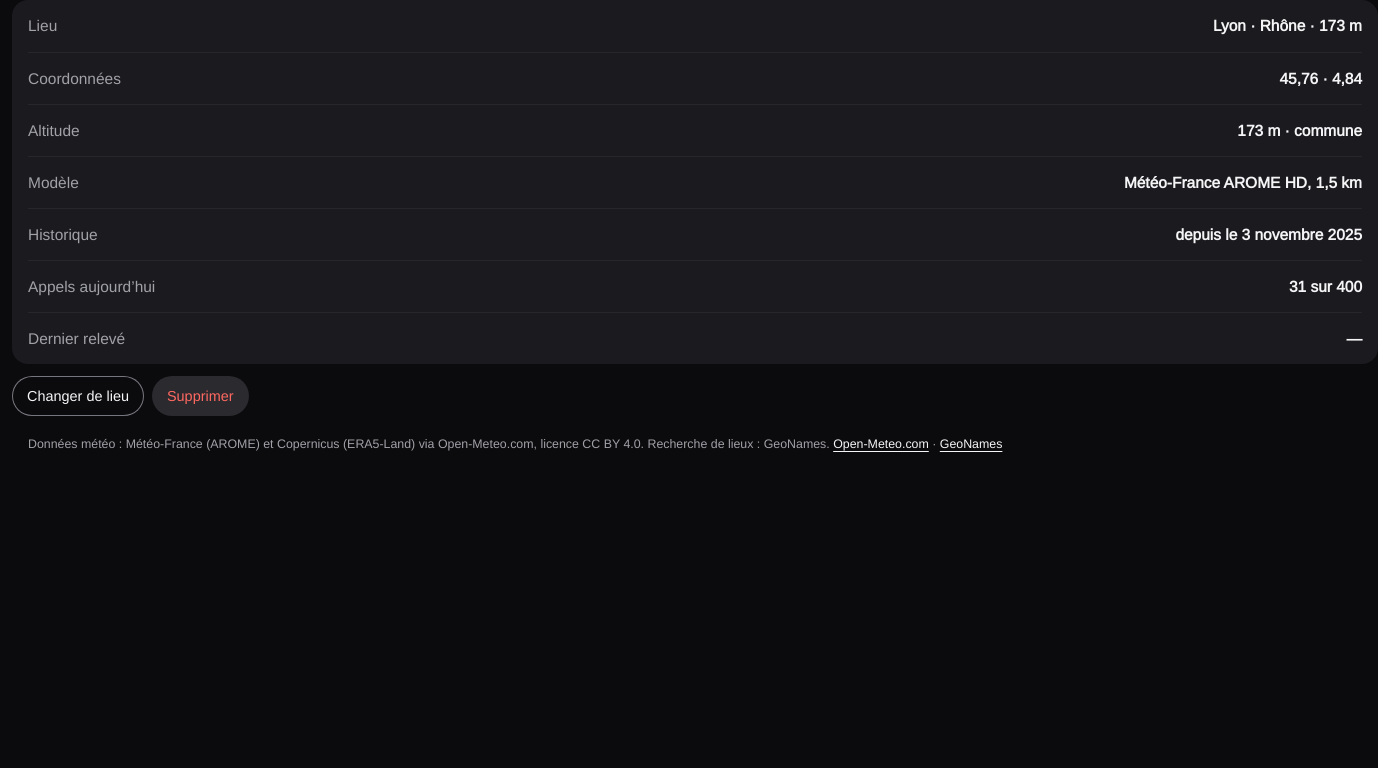
WeatherPanel › « Changer de lieu » shows the search; a pick saves the place
Click the button "Changer de lieu": point(78, 396) [12,376,144,416]
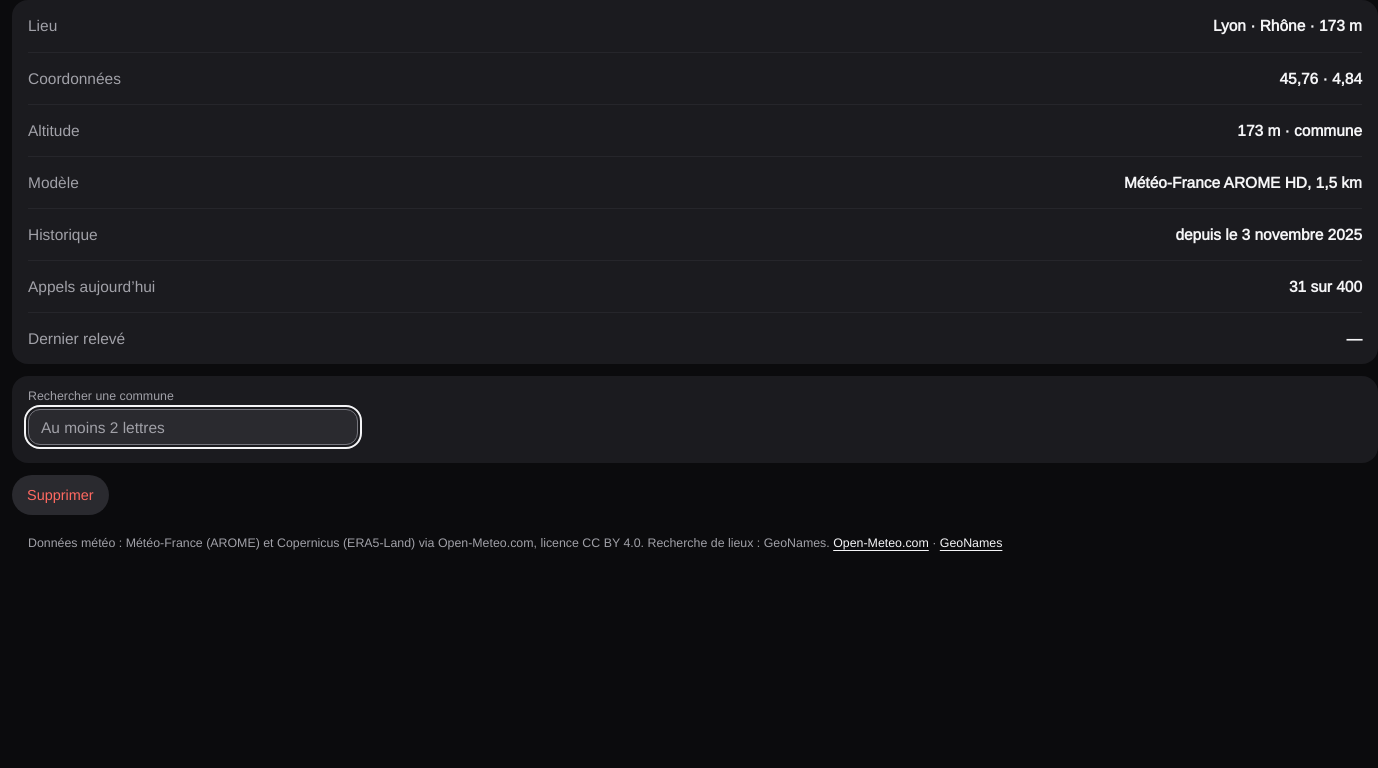
Expected: the dropdown labelled "Rechercher une commune" is shown, [28,409,358,445]
